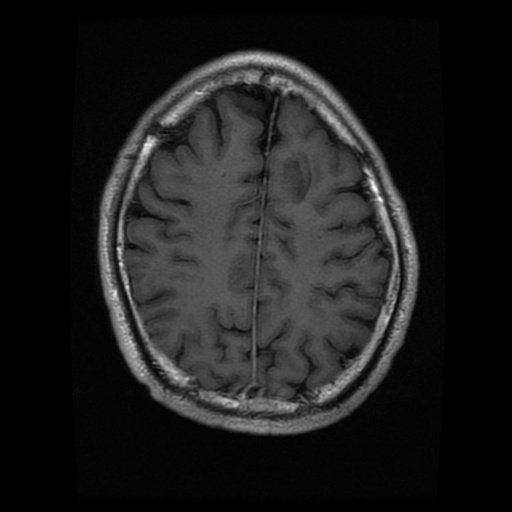glioma: (281, 147, 312, 205)
